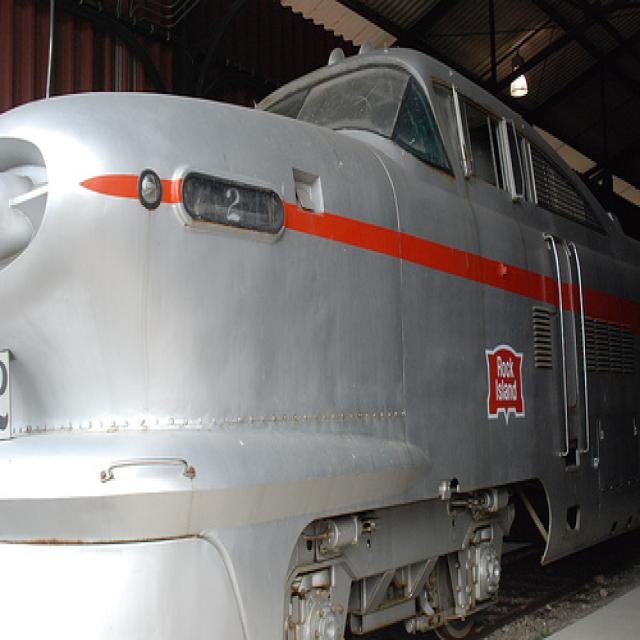train: (1, 53, 640, 639)
